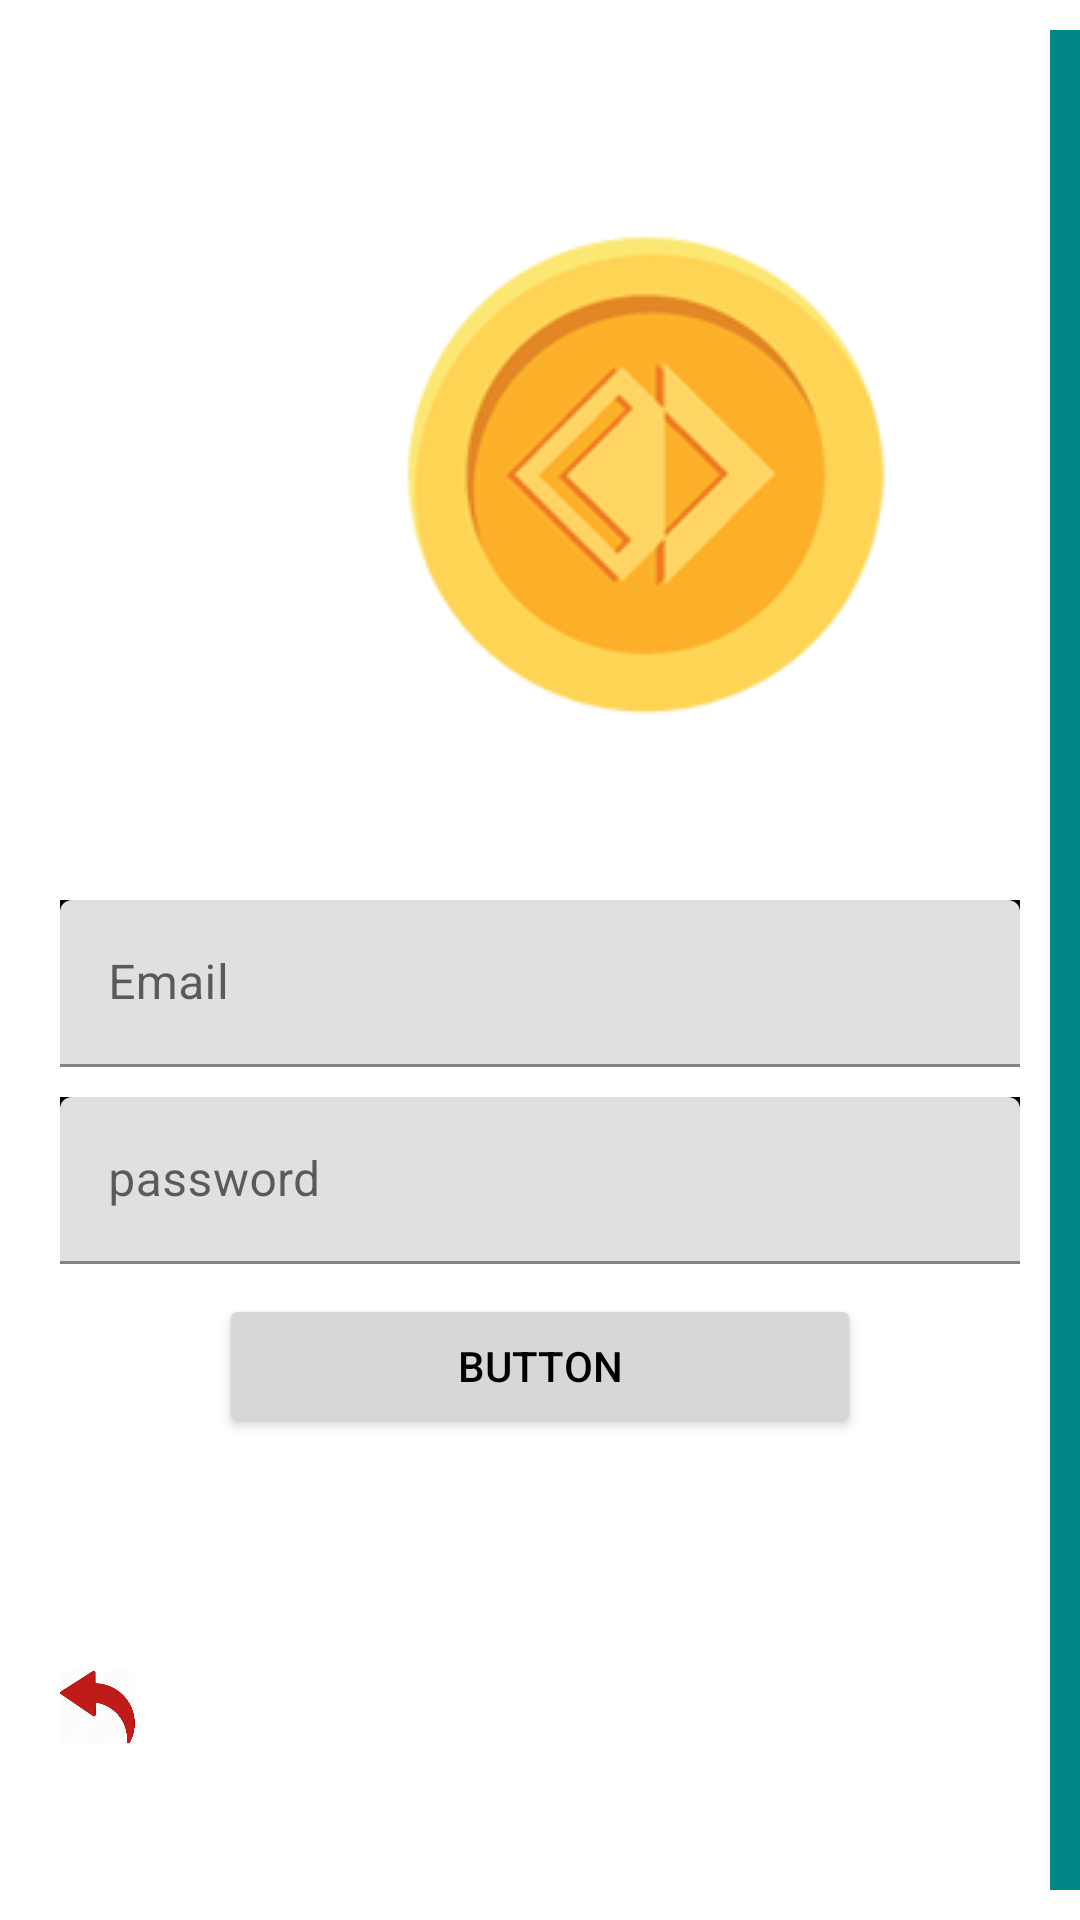

Named icons in this screenshot (1080 x 1920) and their bounding boxes, [x1,y1,x2,y2]:
back click: [60,1670,135,1744]
